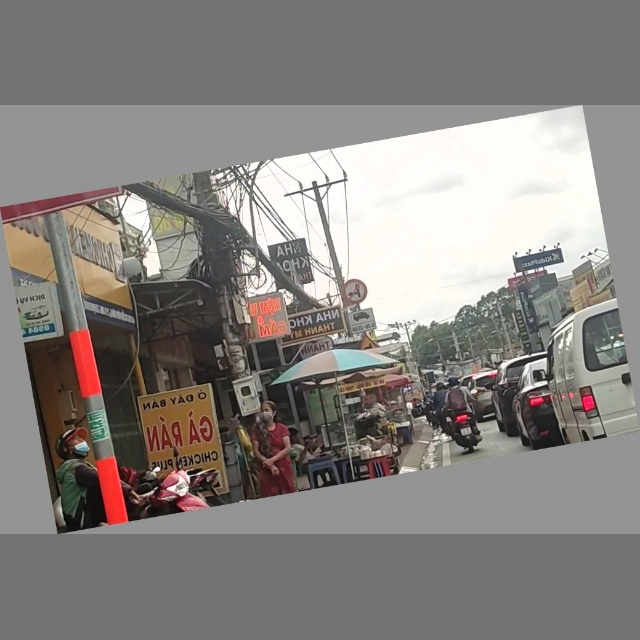P.139: (338, 277, 368, 308)
S.505a*Xe tai: (344, 308, 376, 334)
W.205b: (348, 336, 383, 355)
